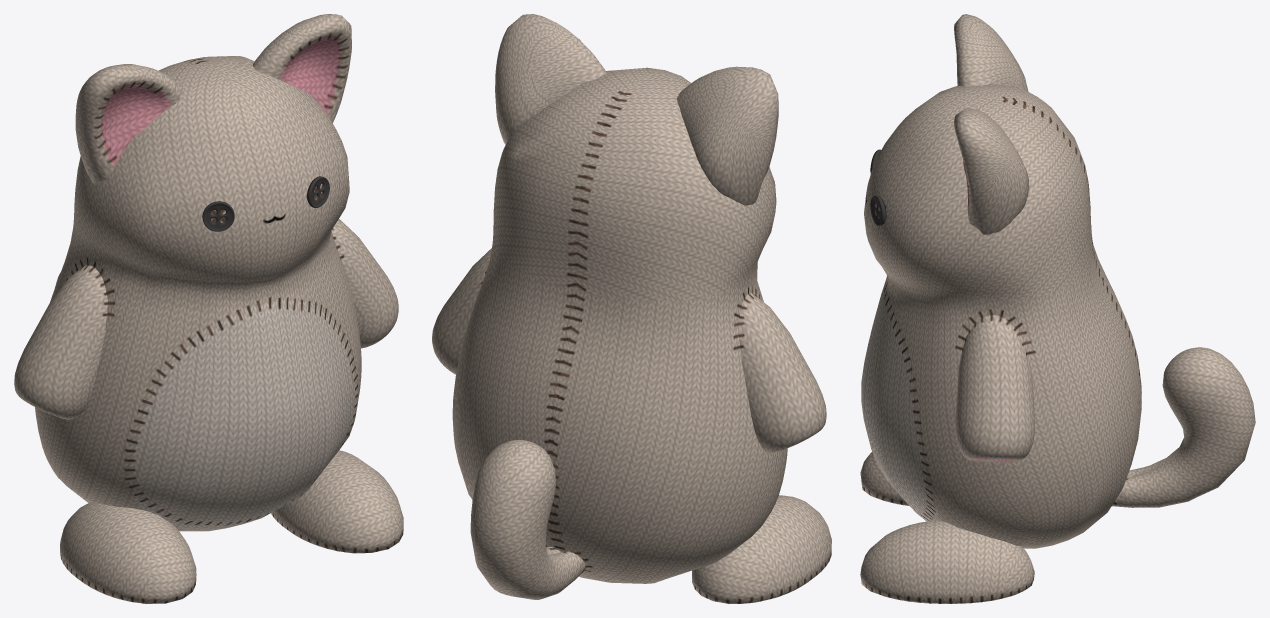
The model's file is Gato definitivo.fbx.
The picture shows the model from 3 angles, left to right: view 1: azimuth 30°, elevation 25°; view 2: azimuth 150°, elevation 25°; view 3: azimuth 270°, elevation 25°; orthographic projection. The views are drawn at different scales.
Visible parts, largest first — view 1: Torso, pie_L (×2), oreja_L (×2), Brazo_L (×2), Ojo_R, Ojo_L; view 2: Torso, oreja_L (×2), Cola, Brazo_L (×2), pie_L; view 3: Torso, Cola, pie_L (×2), oreja_L (×2), Brazo_L.
Boxes of the visible parts, box(x1,y1,x2,y2) form: Torso: box(35, 56, 361, 531); pie_L (×2): box(60, 450, 403, 603); oreja_L (×2): box(75, 14, 351, 184); Brazo_L (×2): box(14, 219, 398, 419); Ojo_R: box(202, 201, 234, 231); Ojo_L: box(306, 176, 329, 207); Torso: box(452, 67, 787, 583); oreja_L (×2): box(495, 14, 778, 205); Cola: box(470, 440, 585, 599); Brazo_L (×2): box(432, 248, 826, 452); pie_L: box(692, 495, 831, 603); Torso: box(861, 84, 1141, 548); Cola: box(1112, 347, 1255, 507); pie_L (×2): box(860, 452, 1034, 603); oreja_L (×2): box(954, 14, 1029, 234); Brazo_L: box(955, 315, 1034, 461).
Bounding box in the file's own units: 4.49 × 5.69 × 4.36.
